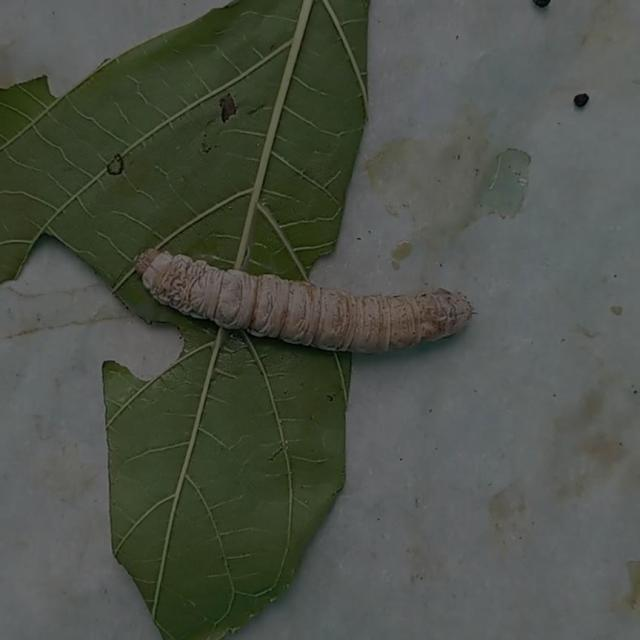Grasserie: (125, 227, 488, 382)
